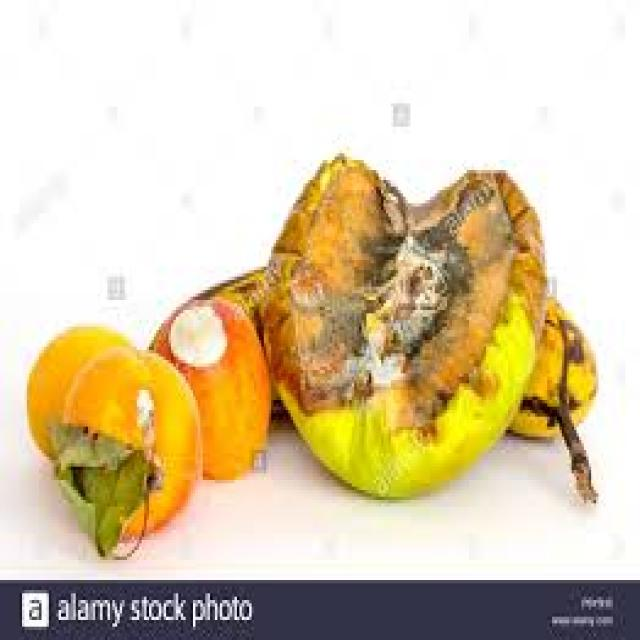food_waste: (27, 153, 594, 553)
